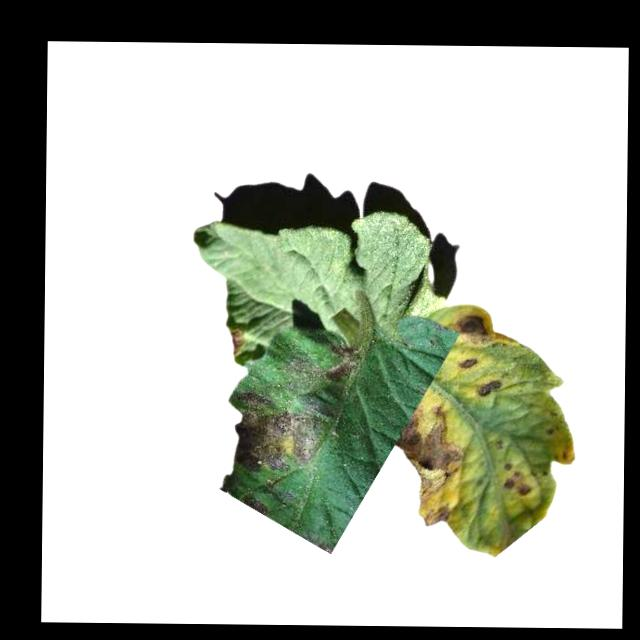Early_blight: (394, 402, 465, 528), (229, 388, 333, 471), (321, 343, 362, 381), (451, 309, 493, 338), (503, 459, 535, 495), (479, 377, 505, 396), (229, 326, 245, 354), (458, 356, 477, 368)
